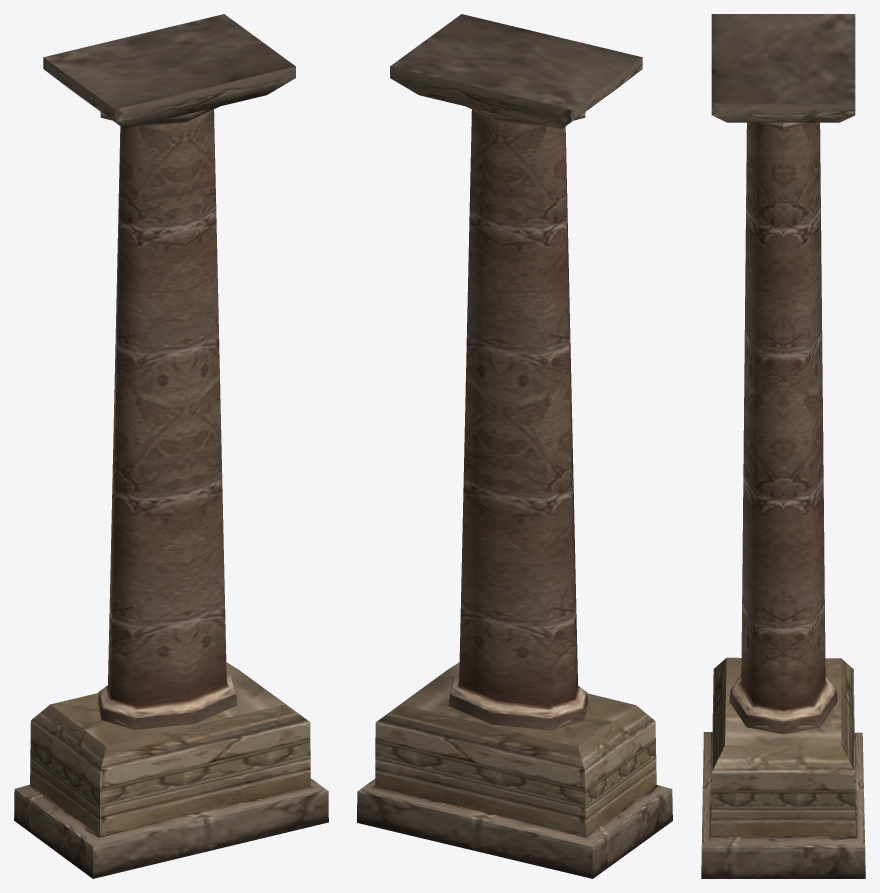
File: blsd_bszhuzi_05.FBX
3 renders of one model, left to right at view 1: azimuth 30°, elevation 25°; view 2: azimuth 150°, elevation 25°; view 3: azimuth 270°, elevation 25°, orthographic.
Parts seen in each view (by area): view 1: blsd_bszhuzi_05; view 2: blsd_bszhuzi_05; view 3: blsd_bszhuzi_05.
Part boxes in pixels (x1,y1,x2,y2): blsd_bszhuzi_05: (14,14,328,878); blsd_bszhuzi_05: (357,14,672,878); blsd_bszhuzi_05: (701,14,865,878).
Bounding box in the file's own units: 141 × 437 × 85.27.
